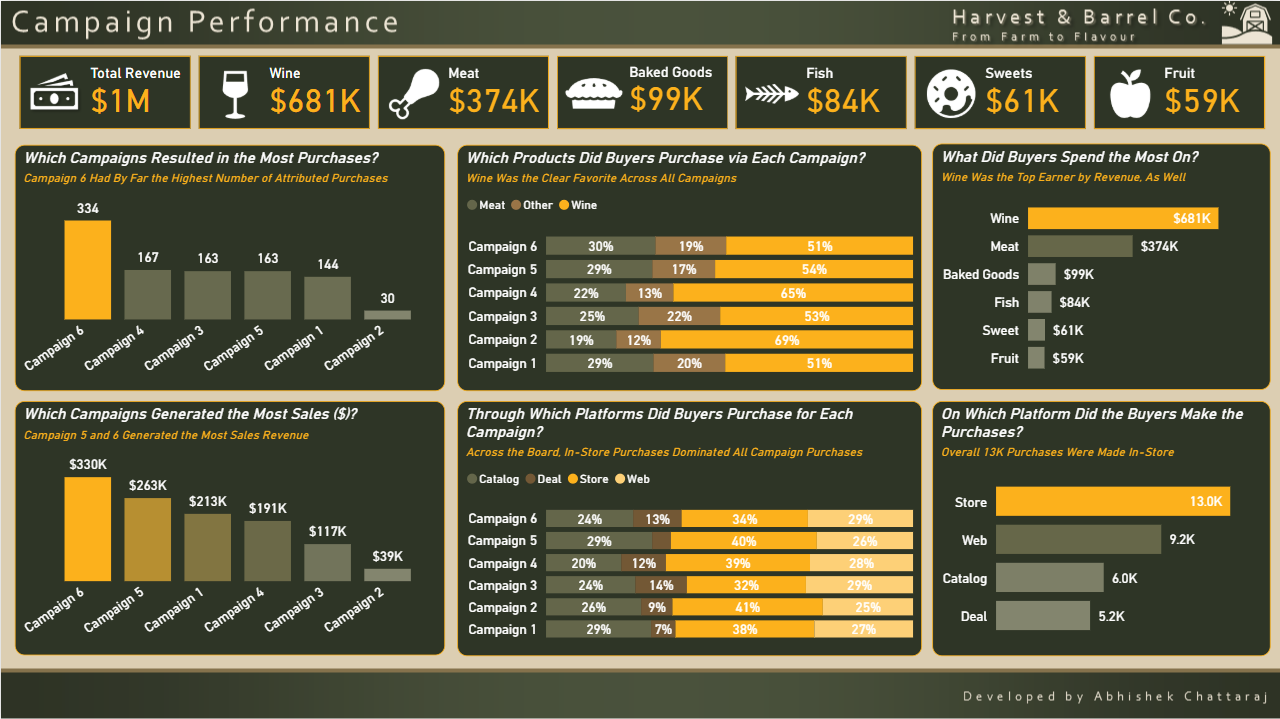

This screenshot's page, from the dashboard's own definition file:
{"tool":"powerbi","page":{"name":"Campaign Performance","canvas":[1280,720],"ordinal":0},"visuals":[{"type":"columnChart","title":"Which Campaigns Resulted in the Most Purchases?","fields":{"Category":["Campaign.Campaign"],"Y":["Sum(Campaign.Accepted_Ind)"]},"box":[13.3,143.6,430.7,246.1],"z":0},{"type":"clusteredColumnChart","title":"Which Campaigns Generated the Most Sales ($)?","fields":{"Y":["Sum(Products.Total Sales)"],"Category":["Campaign.Campaign"]},"box":[13.3,400.5,430.7,254.6],"z":1000},{"type":"hundredPercentStackedBarChart","title":"Which Products Did Buyers Purchase via Each Campaign?","fields":{"Y":["Sum(Products.Total Sales)"],"Category":["Campaign.Campaign"],"Series":["Products.Product (groups)"]},"box":[456.2,143.8,465,246.2],"z":2000},{"type":"clusteredBarChart","title":"What Did Buyers Spend the Most On?","fields":{"Category":["Products.Product"],"Y":["Sum(Products.Total Sales)"]},"box":[931.2,142.5,338.8,246.2],"z":3000},{"type":"hundredPercentStackedBarChart","title":"Through Which Platforms Did Buyers Purchase for Each Campaign?","fields":{"Y":["Sum(Platform.Qty)"],"Series":["Platform.Platform"],"Category":["Campaign.Campaign"]},"box":[456.2,400,465,255],"z":4000},{"type":"clusteredBarChart","title":"On Which Platform Did the Buyers Make the Purchases?","fields":{"Category":["Platform.Platform"],"Y":["Sum(Platform.Qty)"]},"box":[931.2,400,338.8,255],"z":5000},{"type":"cardVisual","fields":{"Data":["Sum(Products.Total Sales)","Sum(marketmindz_research_data.Amount_Wine_Products)","Sum(marketmindz_research_data.Amount_Meat_Products)","Sum(marketmindz_research_data.Amount_Baked_Products)","Sum(marketmindz_research_data.Amount_Fish_Products)","Sum(marketmindz_research_data.Amount_Sweet_Products)","Sum(marketmindz_research_data.Amount_Fruit_Products)"]},"box":[13.3,49.5,1257.1,83.2],"z":6000}]}

Visuals, with their boxes in screenshot pixels (x1, y1, x2, y2), scaled from the page's 1280x720 canvas onto the 1280x719 screenshot:
"Which Campaigns Resulted in the Most Purchases?" columnChart: select_region(13, 143, 444, 389)
"Which Campaigns Generated the Most Sales ($)?" clusteredColumnChart: select_region(13, 400, 444, 654)
"Which Products Did Buyers Purchase via Each Campaign?" hundredPercentStackedBarChart: select_region(456, 144, 921, 389)
"What Did Buyers Spend the Most On?" clusteredBarChart: select_region(931, 142, 1270, 388)
"Through Which Platforms Did Buyers Purchase for Each Campaign?" hundredPercentStackedBarChart: select_region(456, 399, 921, 654)
"On Which Platform Did the Buyers Make the Purchases?" clusteredBarChart: select_region(931, 399, 1270, 654)
cardVisual - Sum(Products.Total Sales) x Sum(marketmindz_research_data.Amount_Wine_Products): select_region(13, 49, 1270, 133)
